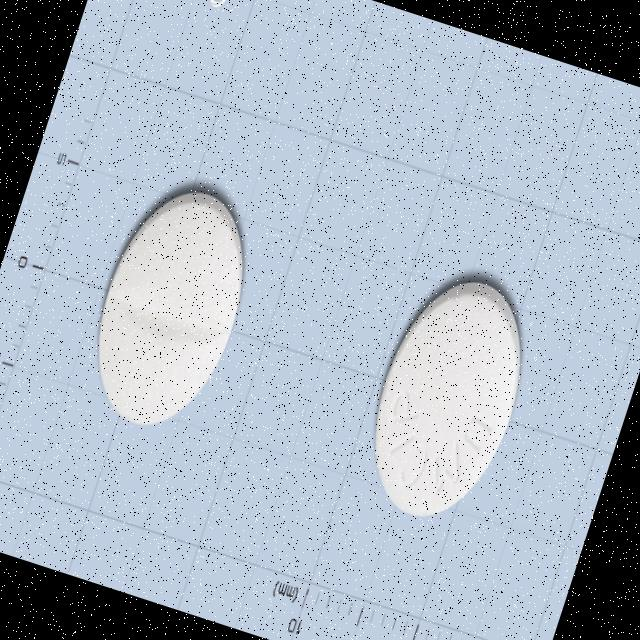Ciprofloxacin HCl Tab- Unimed: (340, 257, 552, 542), (65, 166, 275, 450)
